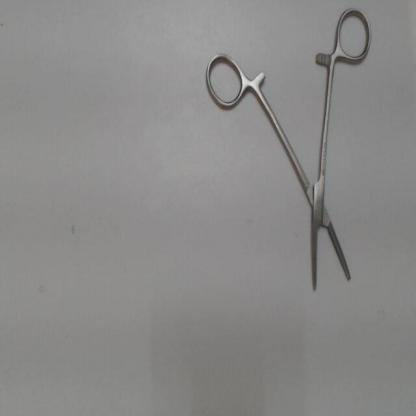Mayo Needle Holder: (198, 3, 375, 302)
